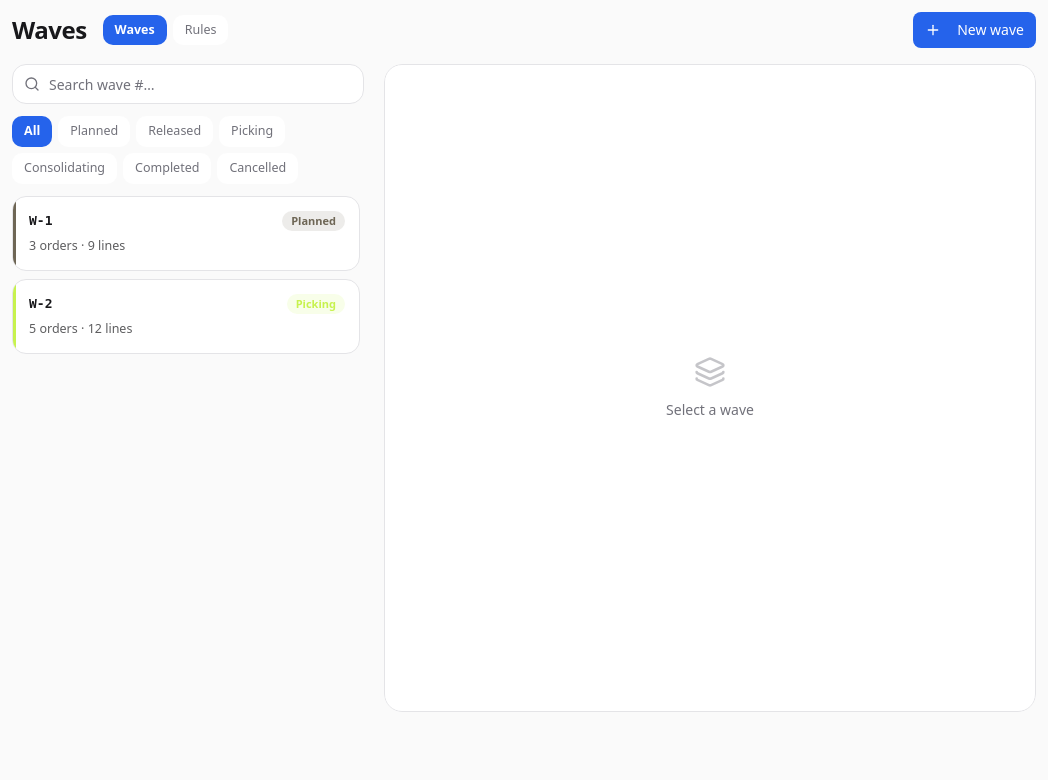
Test: WavesPage -- RULES tab › the Rules tab switches the board to the rules master-detail, hiding New wave
Click the button "Rules": [201, 30] box [173,15,228,45]
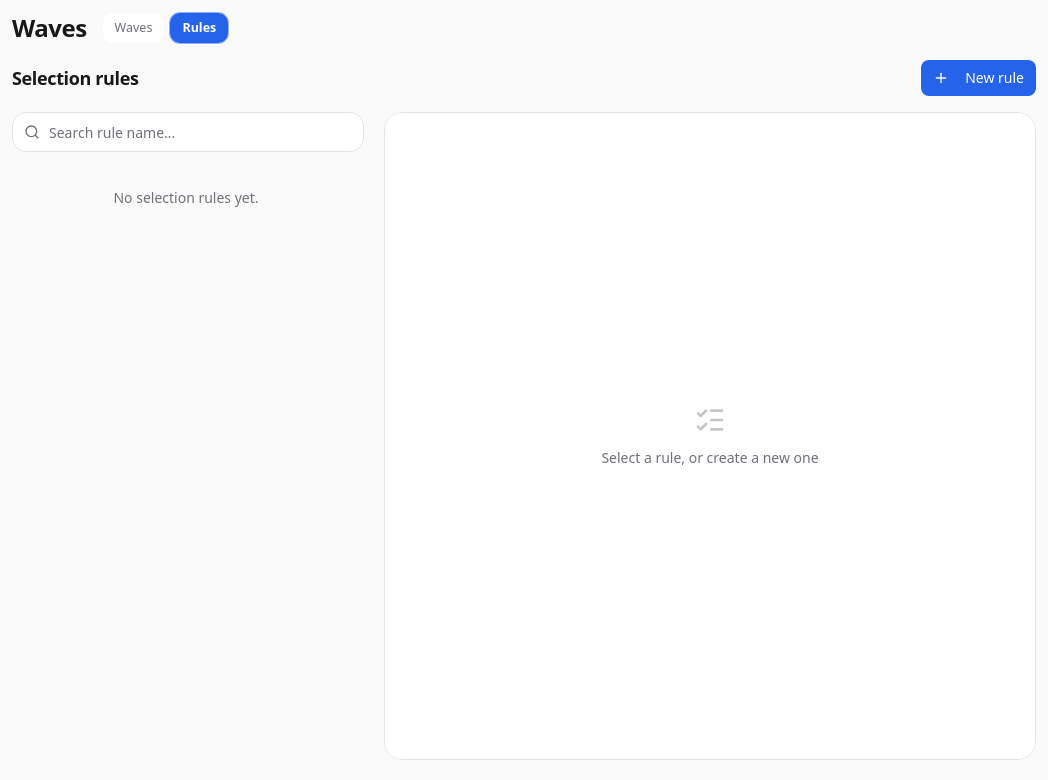
expect the element with test id "rules-tab" is shown: met
expect the button with test id "new-wave-button" is gone: met
